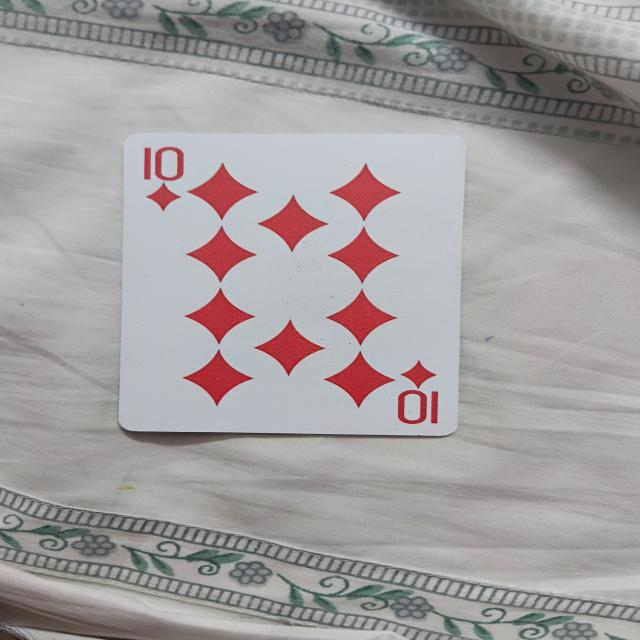10D: (106, 133, 474, 438)
